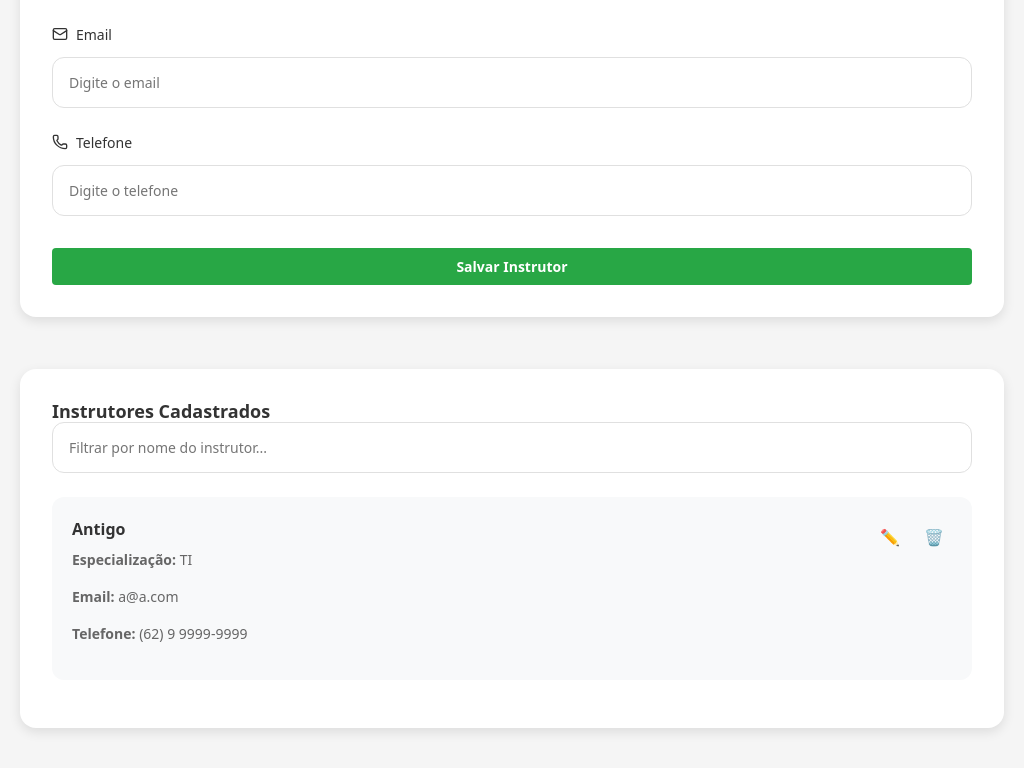
it: CadastroDeInstrutor › edita instrutor existente
This screenshot has width=1024, height=768.
(page scrolled)
Check: the text "Antigo" is shown, box 72,518 -> 125,540
What coordinates should you click on to do the following:
click the button titled "Editar"
I would click on:
 (890, 537)
Its box is 872,517 -> 908,557.
(page scrolled)
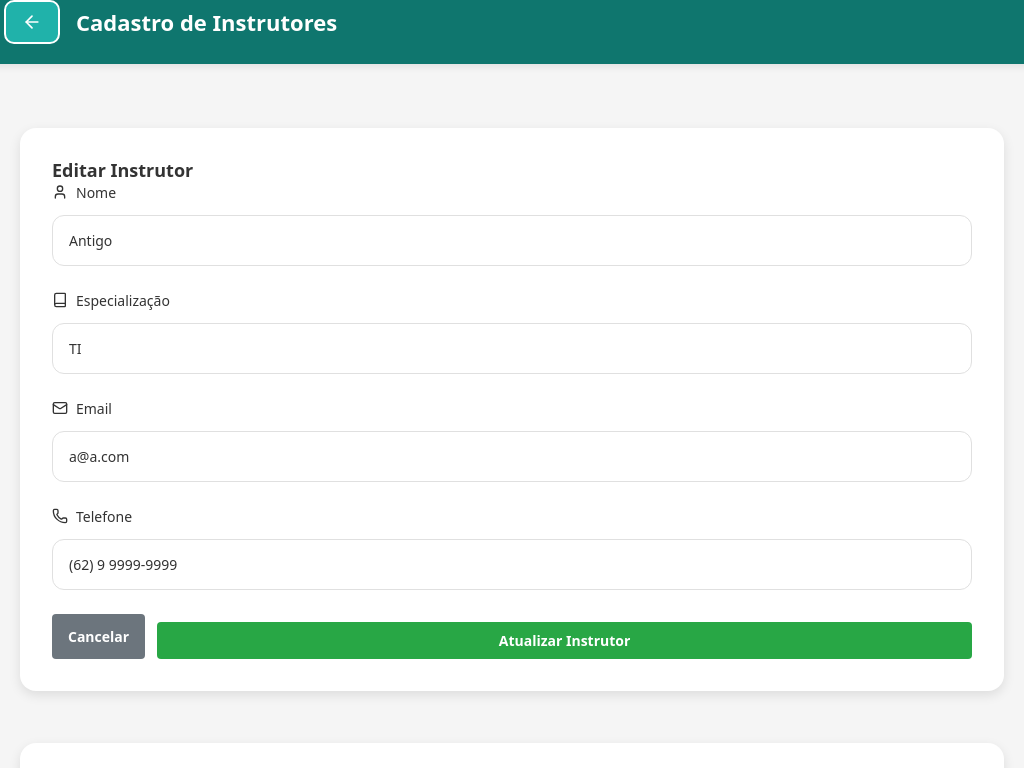
Check: the field showing "Antigo" is shown, box 52,215 -> 972,266
